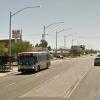Bus: (16, 48, 51, 73)
